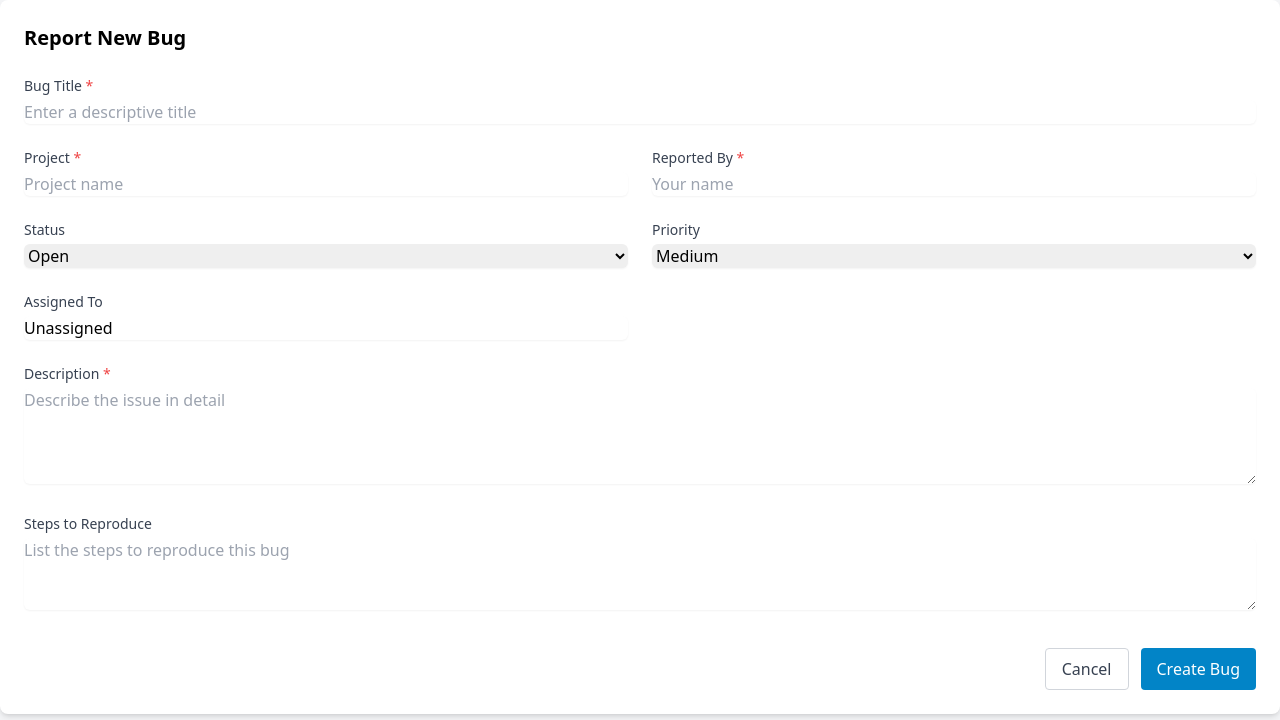
Test case: BugForm Component › validates required fields
// Submit form without filling required fields
Click the button with test id "submit-bug-button".
click(1198, 669)  # box [1140,648,1256,690]
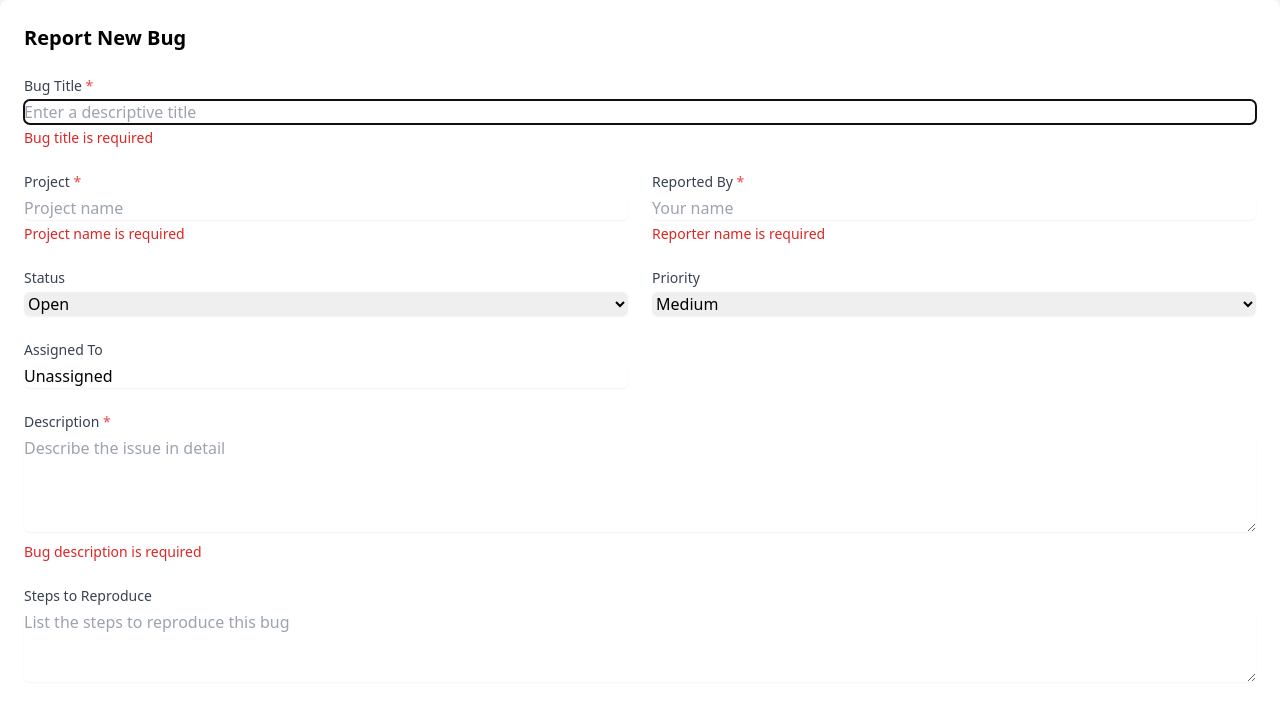
expect the text "Bug title is required" is shown: met, box [24,128,153,147]
